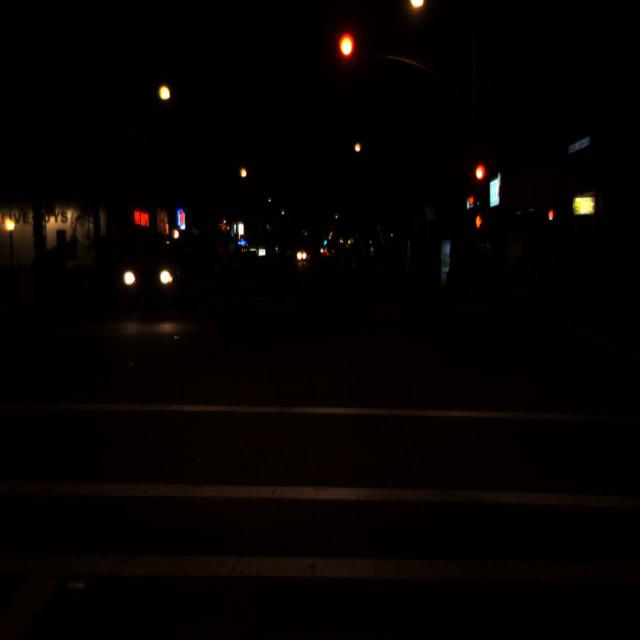go: (323, 236, 327, 246)
go traffic light: (323, 236, 327, 246)
stop: (335, 35, 357, 91), (473, 162, 488, 198)
stop traffic light: (335, 35, 357, 91), (473, 162, 488, 198)
